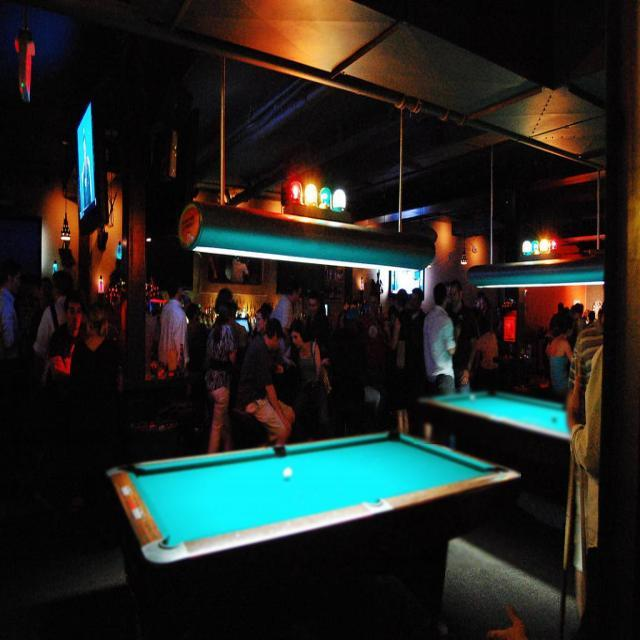Ball: (282, 465, 292, 480), (551, 412, 558, 423), (469, 394, 476, 402)
Billiard table: (105, 428, 521, 568), (414, 388, 572, 444)
